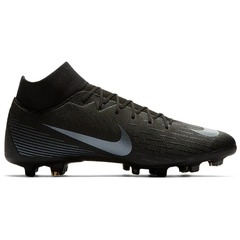nike: (44, 122, 134, 158)
